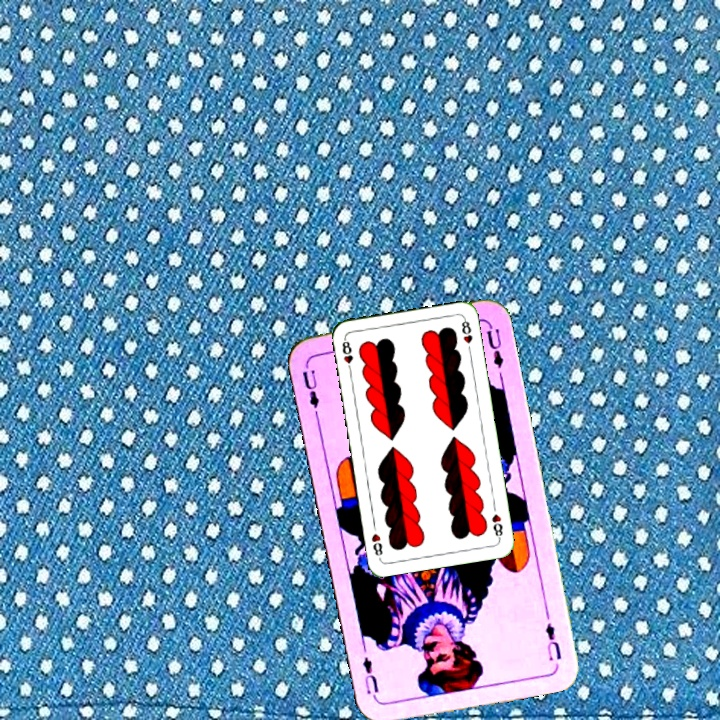EU: (298, 359, 322, 411), (541, 619, 564, 664)
H8: (338, 334, 356, 375), (488, 510, 505, 542)
